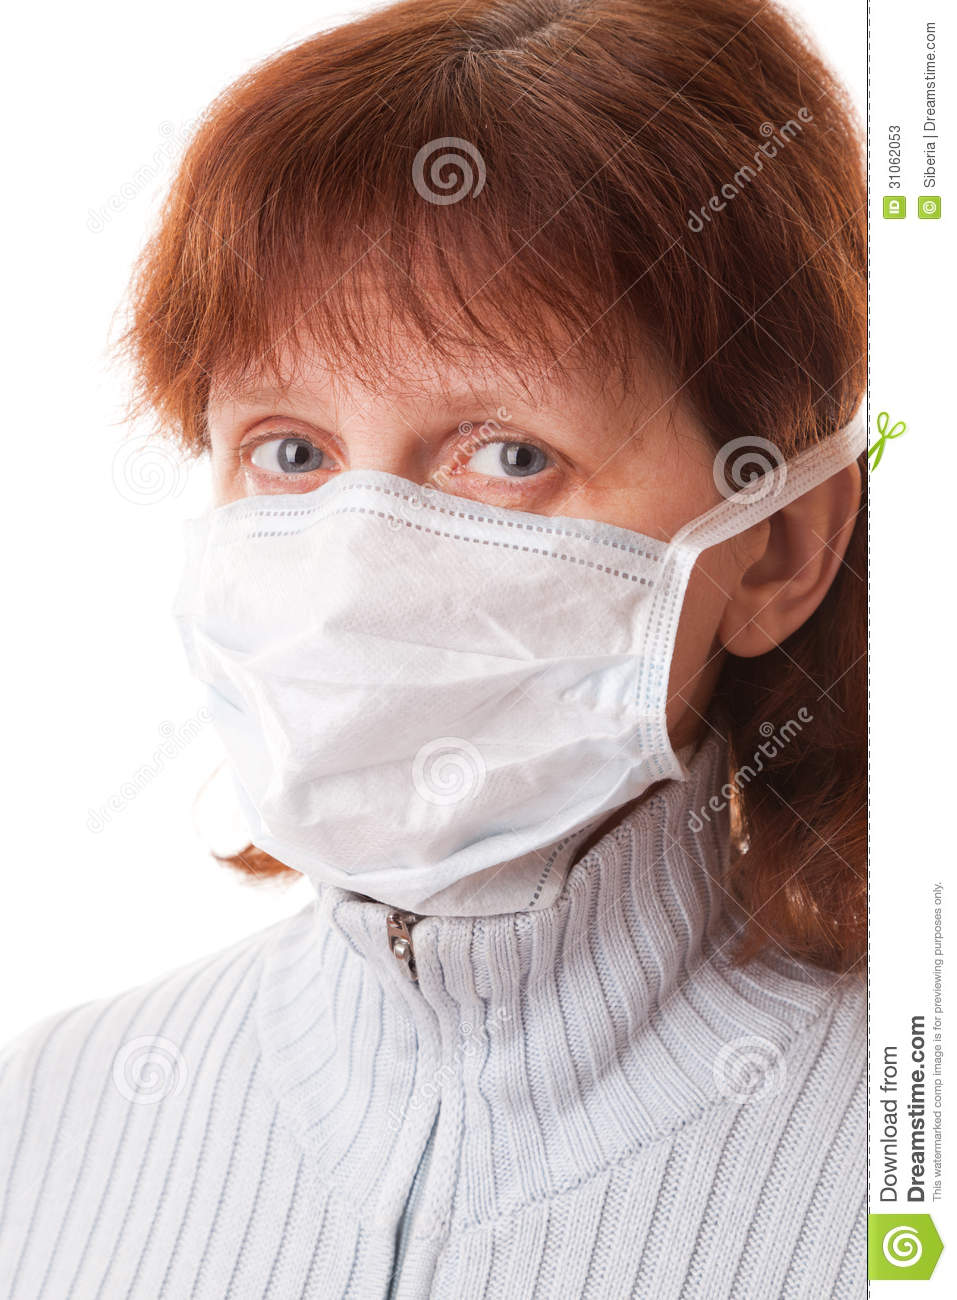mask: (191, 476, 696, 925)
